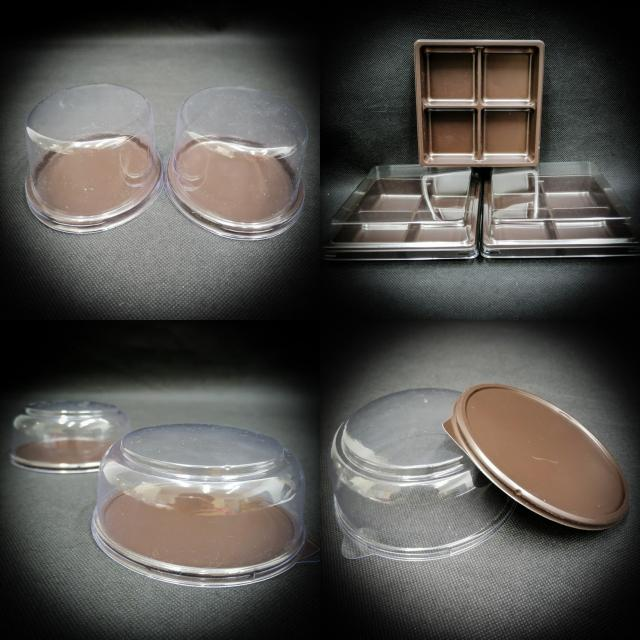Single-Use-Plastic: (92, 424, 308, 587), (329, 389, 514, 561), (444, 384, 629, 529), (165, 86, 308, 240), (25, 84, 162, 232), (415, 40, 545, 166), (481, 162, 640, 258), (324, 165, 481, 260), (10, 401, 130, 472)
